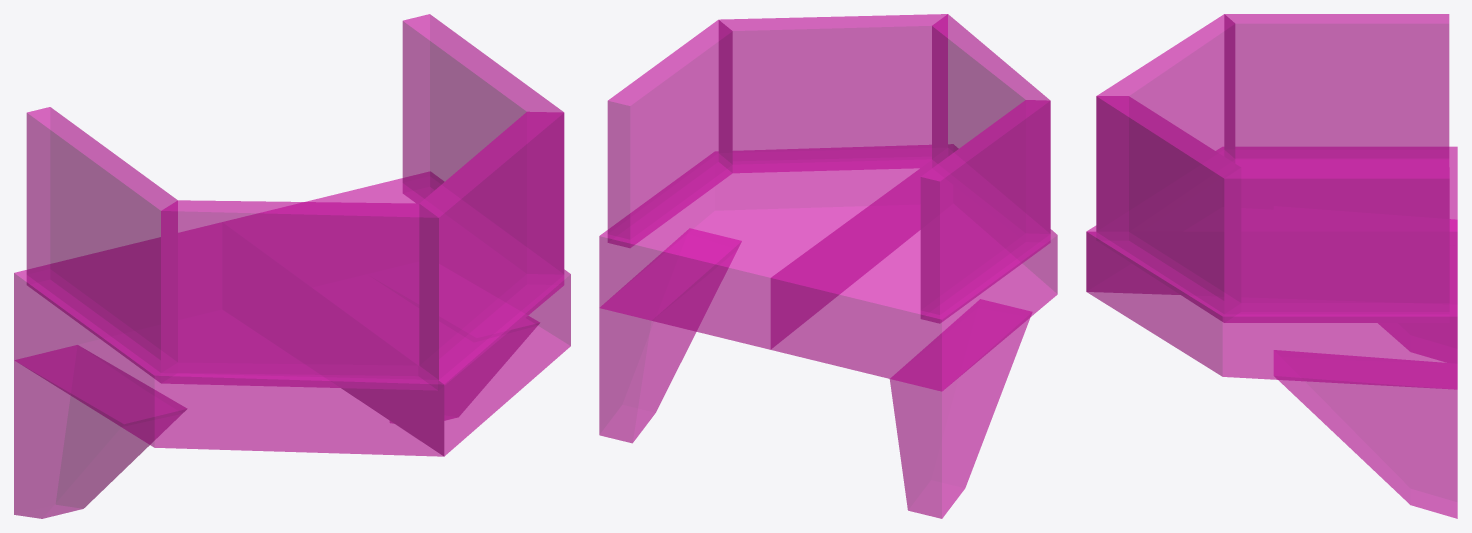
Rendered from SM_Bld_Balcony_02_Collision.fbx.
The picture shows the model from 3 angles, left to right: view 1: azimuth 30°, elevation 25°; view 2: azimuth 150°, elevation 25°; view 3: azimuth 270°, elevation 25°; orthographic projection. The views are drawn at different scales.
Parts seen in each view (by area): view 1: SM_Bld_Balcony_02_Collision; view 2: SM_Bld_Balcony_02_Collision; view 3: SM_Bld_Balcony_02_Collision.
Part boxes in pixels (box(x1,y1,x2,y2)): SM_Bld_Balcony_02_Collision: box(14, 14, 570, 518); SM_Bld_Balcony_02_Collision: box(599, 14, 1057, 518); SM_Bld_Balcony_02_Collision: box(1086, 14, 1457, 518).
Bounding box in the file's own units: 255 × 237 × 236.
